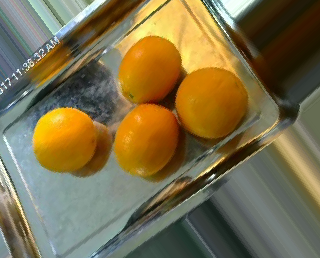Orange: (173, 67, 248, 139), (114, 103, 180, 177), (118, 35, 182, 106), (30, 106, 95, 173)
